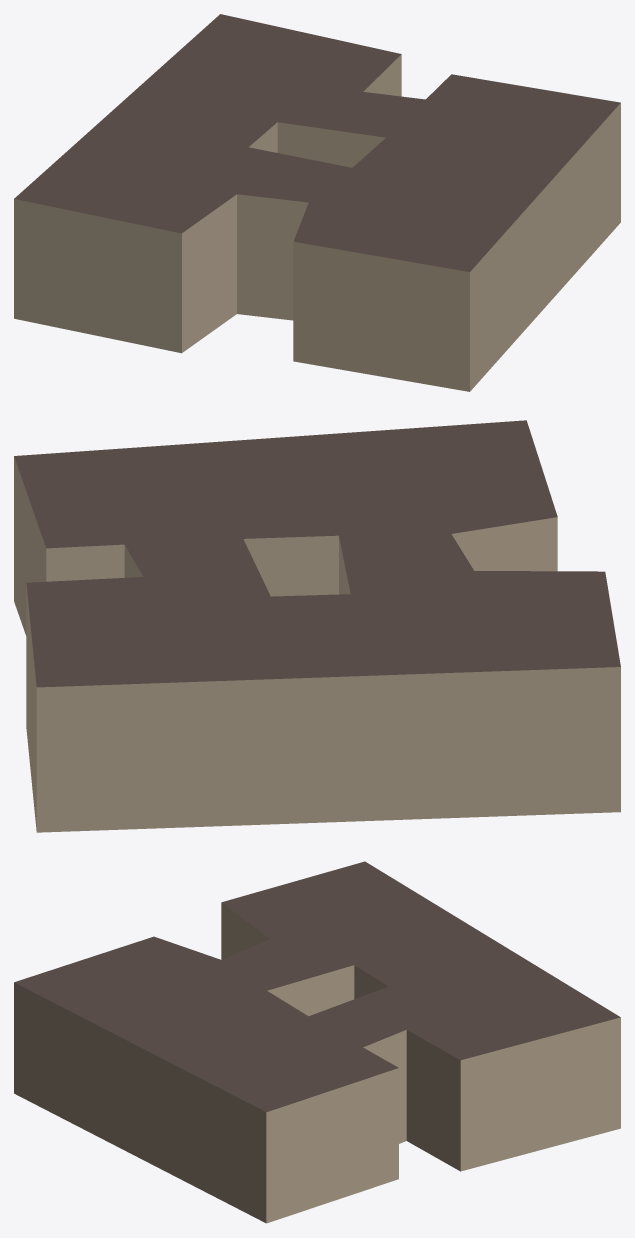
The picture shows the model from 3 angles, top to bottom: view 1: azimuth 30°, elevation 25°; view 2: azimuth 150°, elevation 25°; view 3: azimuth 270°, elevation 25°; orthographic projection. The views are drawn at different scales.
Parts seen in each view (by area): view 1: HP-r20702163; view 2: HP-r20702163; view 3: HP-r20702163.
Part boxes in pixels (bbox=[...]): HP-r20702163: bbox=[14, 14, 620, 391]; HP-r20702163: bbox=[14, 420, 620, 832]; HP-r20702163: bbox=[14, 861, 620, 1223].
Bounding box in the file's own units: 43.55 × 9 × 44.52.
